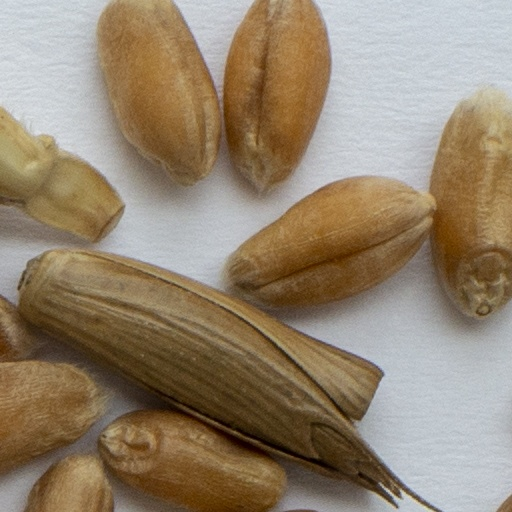Peel-poly: (16, 246, 443, 511), (0, 106, 124, 249)
